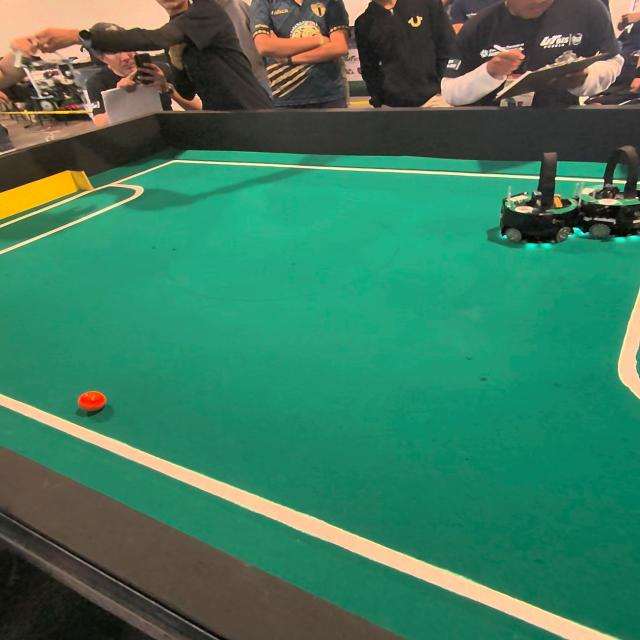Robot: (486, 150, 570, 258), (578, 141, 636, 248)
pelota: (78, 391, 109, 416)
